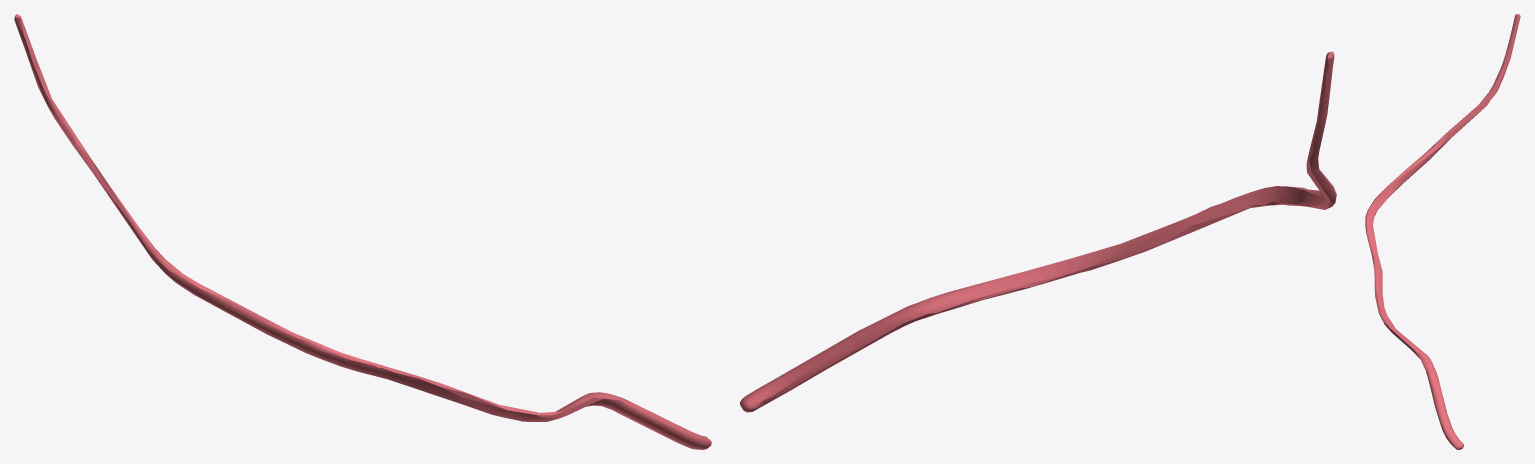
Rendered from fma51404_fj5186.glb.
The picture shows the model from 3 angles, left to right: view 1: azimuth 30°, elevation 25°; view 2: azimuth 150°, elevation 25°; view 3: azimuth 270°, elevation 25°; orthographic projection. The views are drawn at different scales.
Parts seen in each view (by area): view 1: FMA51404_FJ5186; view 2: FMA51404_FJ5186; view 3: FMA51404_FJ5186.
Part boxes in pixels (x1,y1,x2,y2): FMA51404_FJ5186: (14, 14, 711, 449); FMA51404_FJ5186: (740, 51, 1336, 412); FMA51404_FJ5186: (1365, 14, 1520, 449).
Size of the model in its own units: 0.0475 by 0.0389 by 0.0196.
